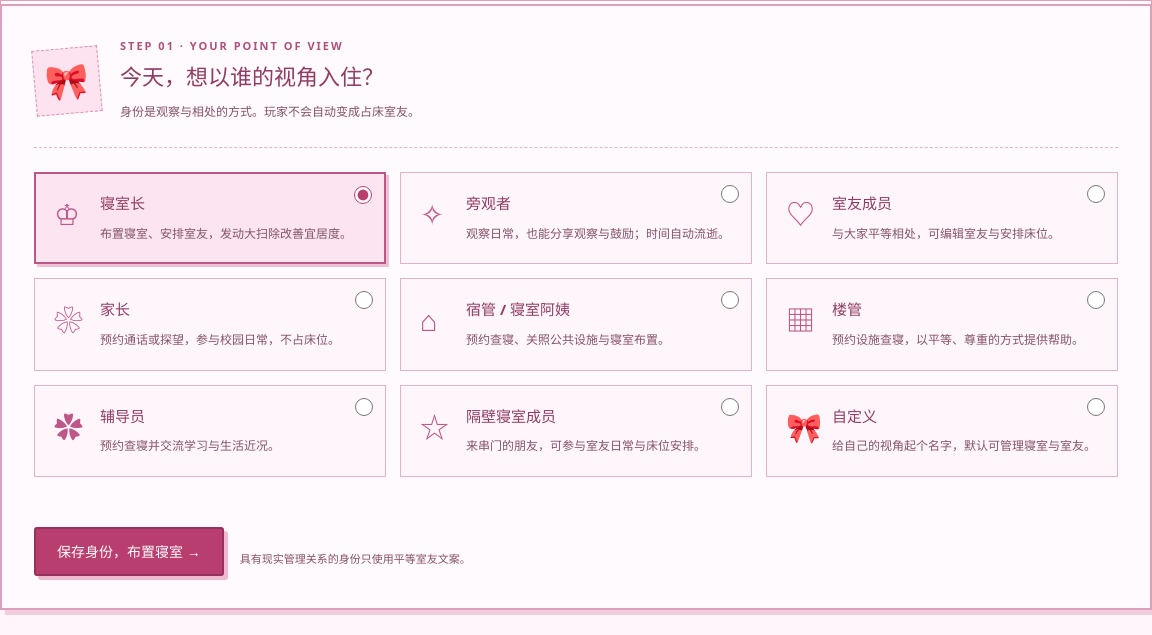
Test: creates the university setup without age inputs or age confirmation controls
(page scrolled)
Click the button "保存身份，布置寝室 →".
click(129, 551)  # box x1=34 y1=527 x2=224 y2=576
(page scrolled)
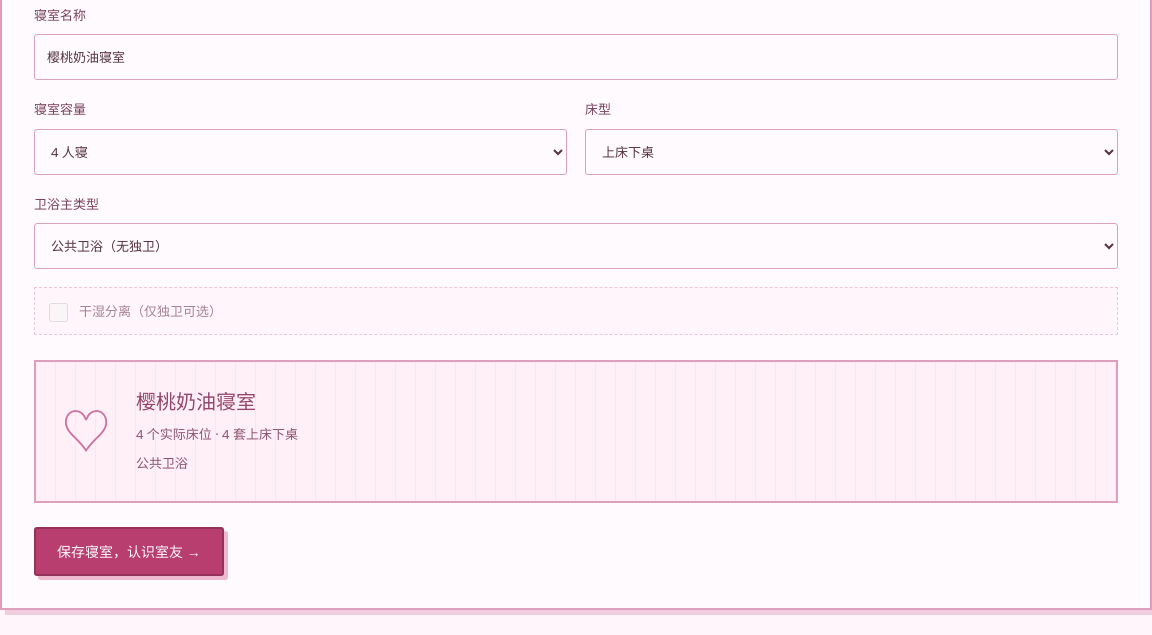
Click the button "保存寝室，认识室友 →".
click(129, 552)  # box x1=34 y1=527 x2=224 y2=576
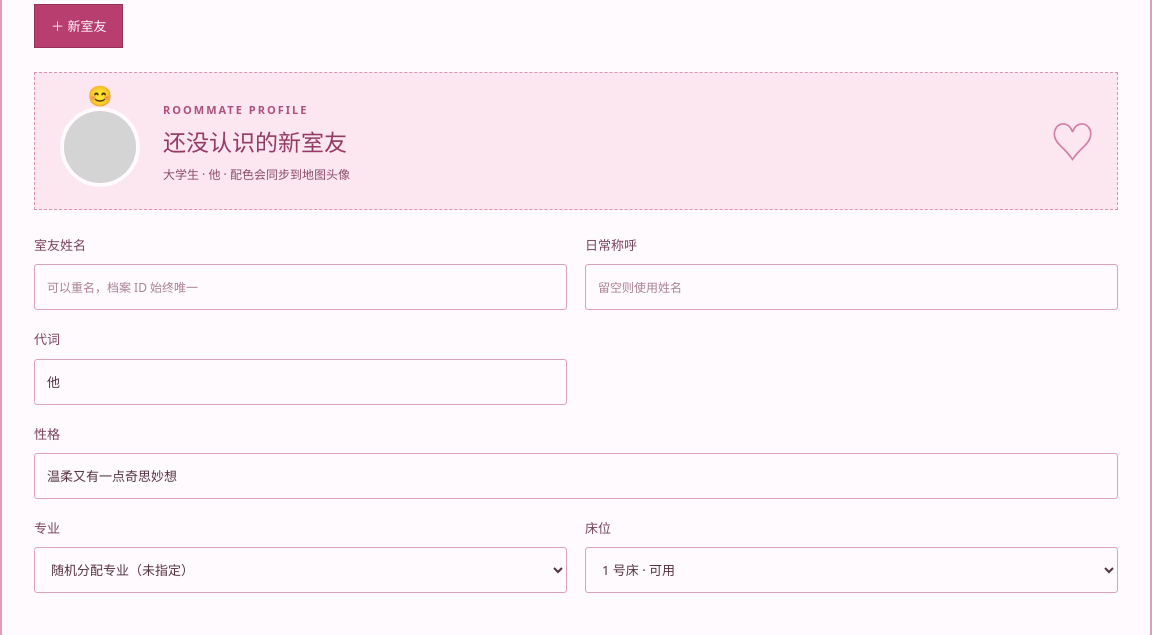
Type "大学桃桃" into the field labelled "室友姓名".
click(300, 288); type("大学桃桃")  # box x1=34 y1=264 x2=567 y2=310
(page scrolled)
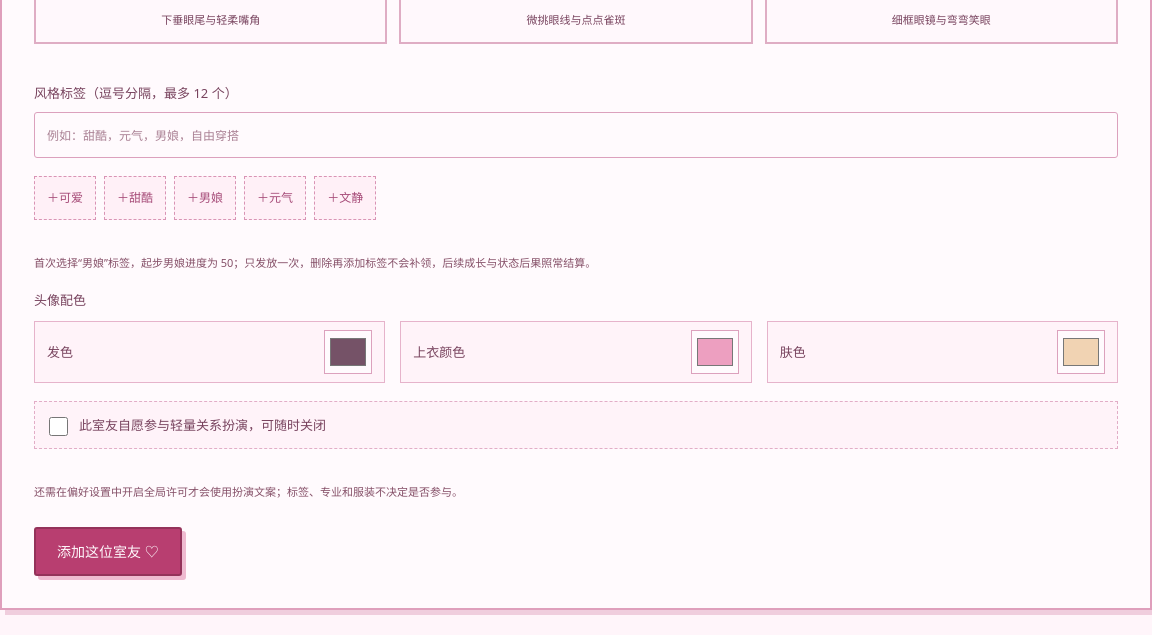
Click the button "添加这位室友 ♡".
click(108, 551)  # box x1=34 y1=527 x2=182 y2=576
(page scrolled)
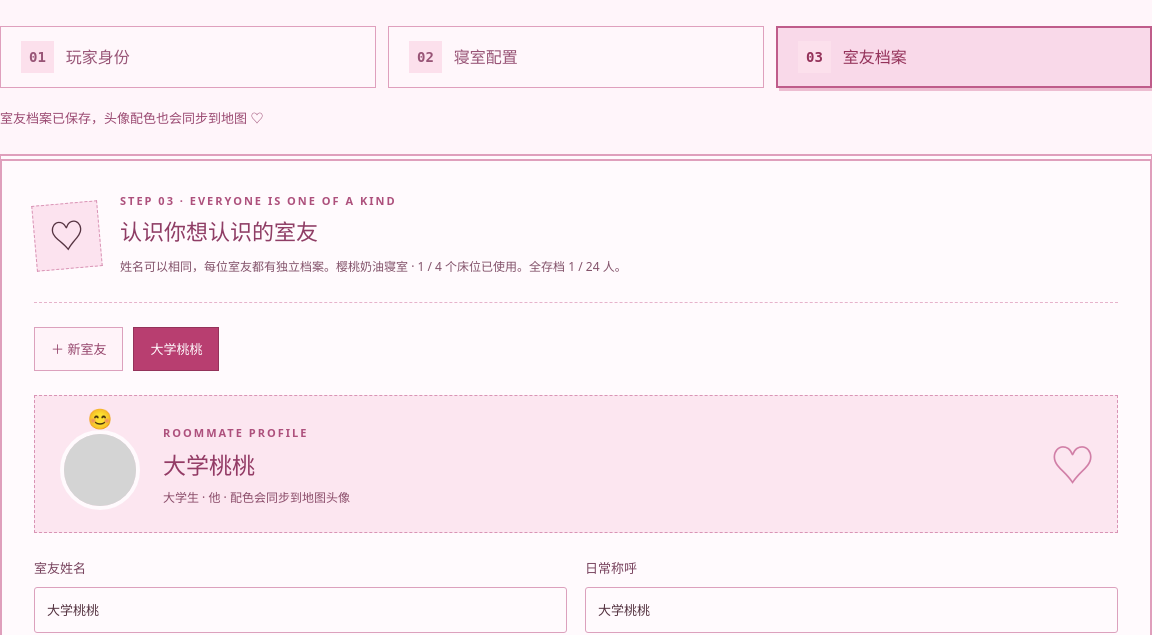
Expected: the button "大学桃桃" is shown, x1=133 y1=327 x2=219 y2=371
